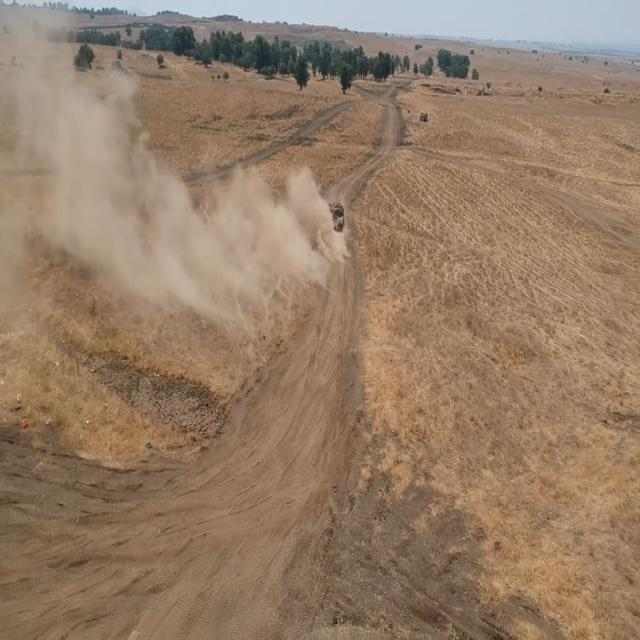tank: (324, 199, 346, 234)
